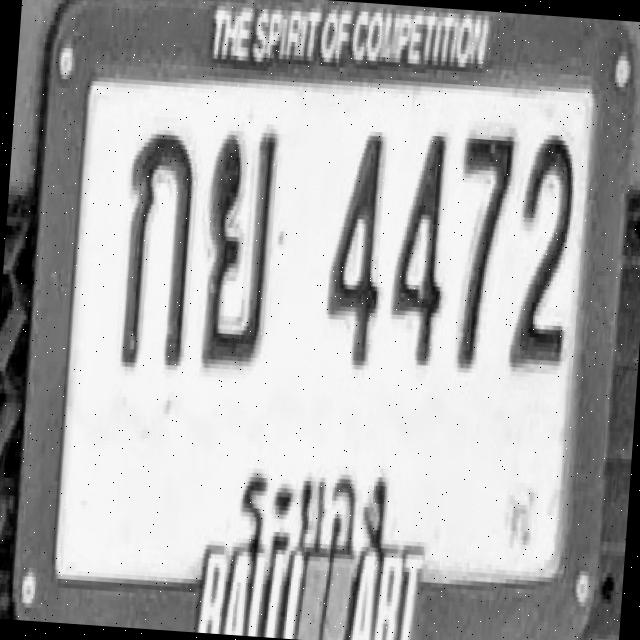10GorGai: (116, 128, 198, 370)
2: (508, 128, 576, 370)
4: (320, 126, 390, 368), (386, 127, 453, 368)
43YorYak: (198, 122, 280, 369)
7: (448, 126, 516, 372)
Rayong: (228, 435, 398, 559)
